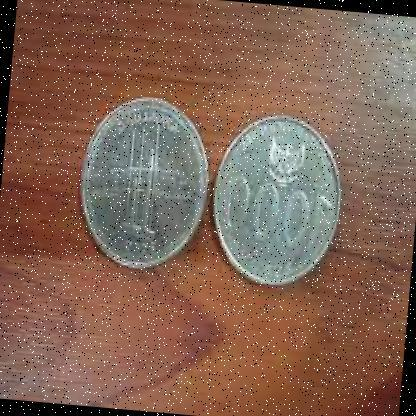coin_1000_e2010: (81, 96, 209, 271), (219, 117, 341, 285)
